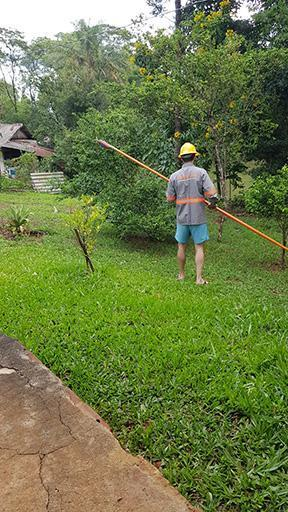helmet: (175, 142, 201, 168)
